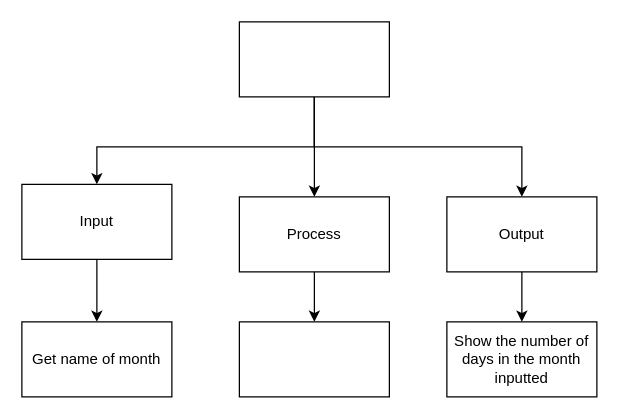
Image size: 619x419. Some labels were removed from this diagram. Each missing label, with the box of its shape:
Check input to see if it is a string: (238, 321, 389, 397)
How many days in a month?: (238, 21, 389, 97)
